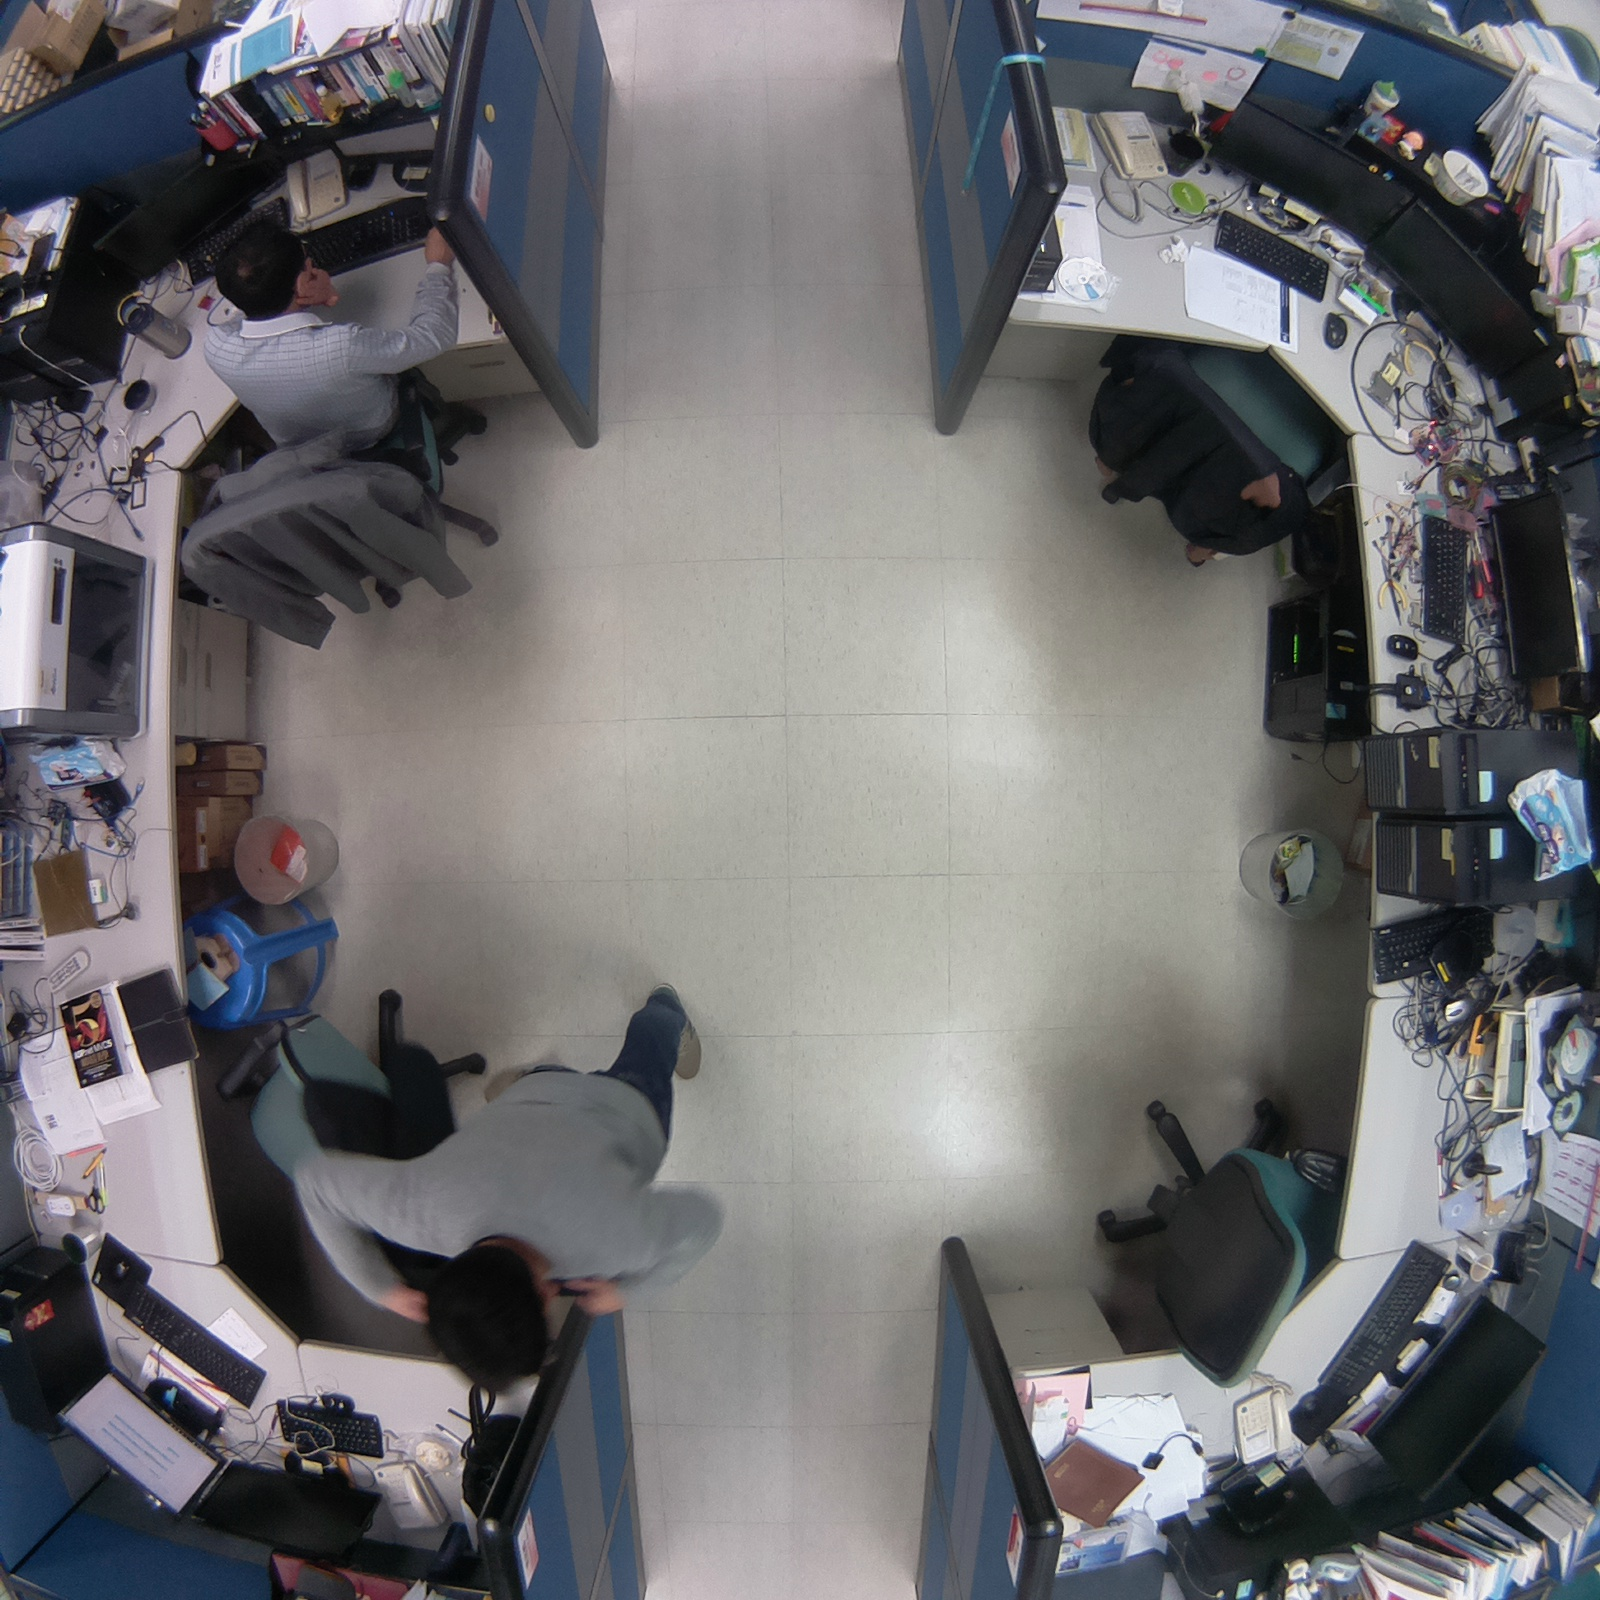chair: (1078, 1060, 1363, 1406), (1070, 306, 1381, 583)
head: (419, 1240, 561, 1393), (208, 208, 312, 325)
sitting: (170, 214, 514, 670)
standing: (290, 978, 728, 1398)
